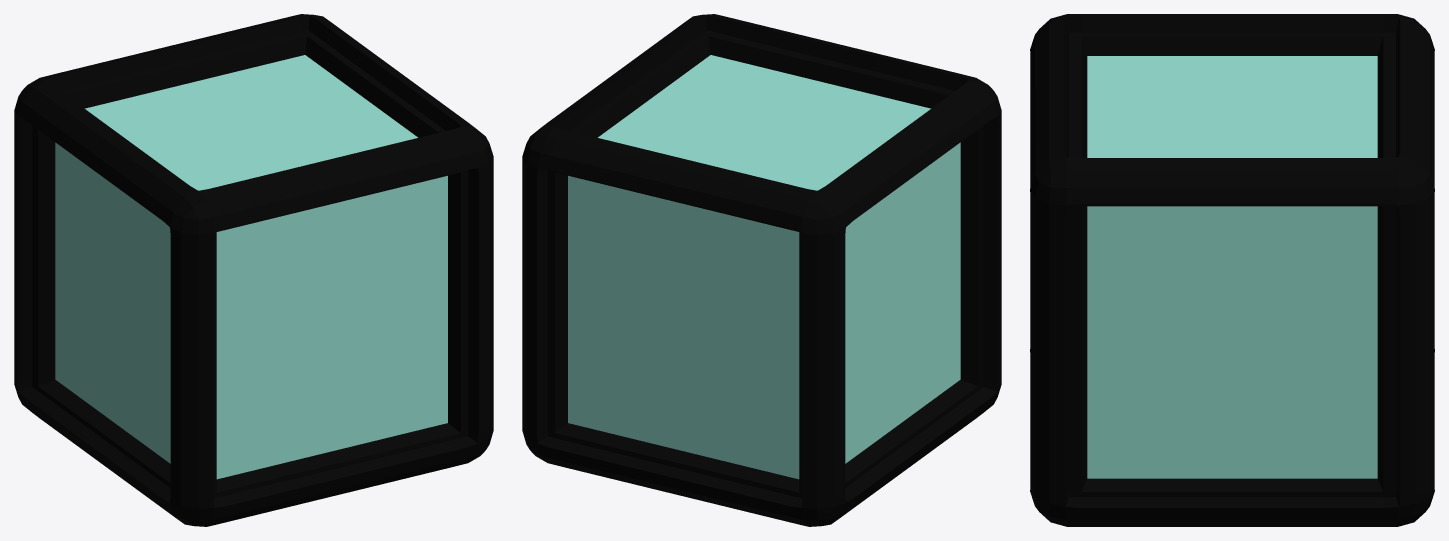
Rendered from FirstBoxSketchfab.fbx.
3 renders of one model, left to right at view 1: azimuth 30°, elevation 25°; view 2: azimuth 150°, elevation 25°; view 3: azimuth 270°, elevation 25°, orthographic. The views are drawn at different scales.
Parts seen in each view (by area): view 1: Object001, Object002; view 2: Object001, Object002; view 3: Object001, Object002.
Boxes of the visible parts, bbox=[...] form: Object001: bbox=[55, 55, 447, 479]; Object002: bbox=[14, 14, 493, 526]; Object001: bbox=[568, 55, 960, 479]; Object002: bbox=[522, 14, 1001, 526]; Object001: bbox=[1087, 56, 1377, 478]; Object002: bbox=[1030, 14, 1434, 526].
Bounding box in the file's own units: 39.28 × 39.28 × 39.28.
